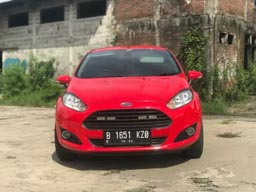plat: (104, 127, 152, 140)
